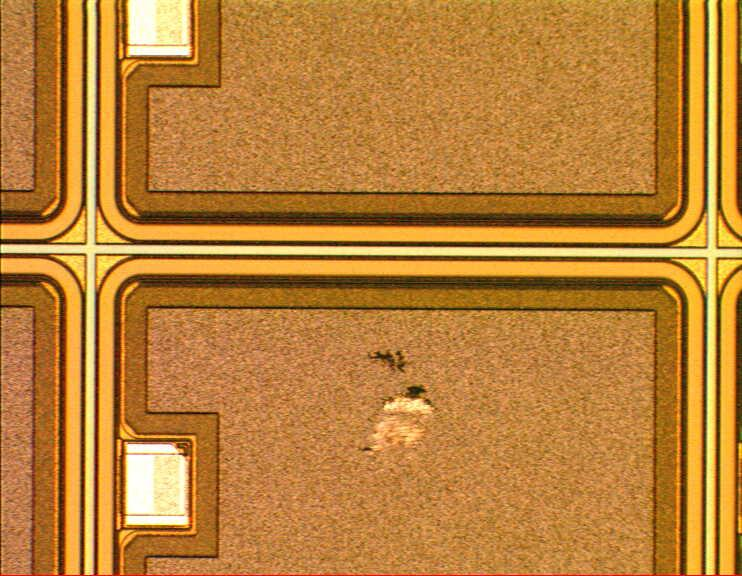SCRATCH: (341, 347, 454, 472)
